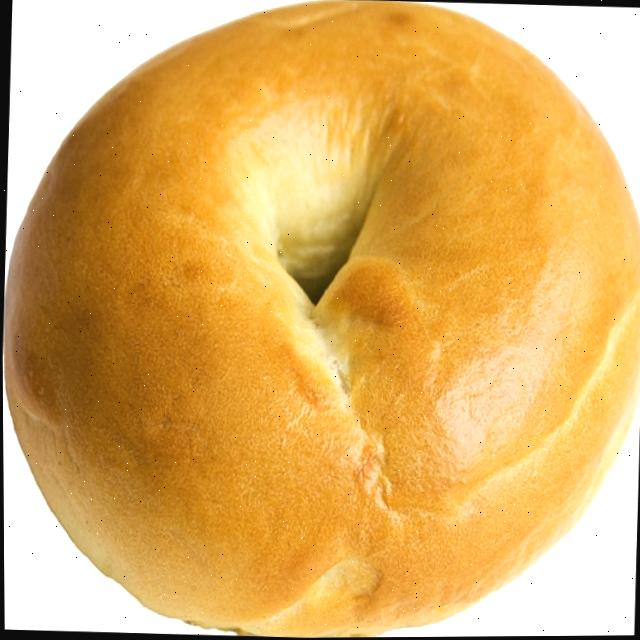面包点心: (6, 9, 639, 630)
